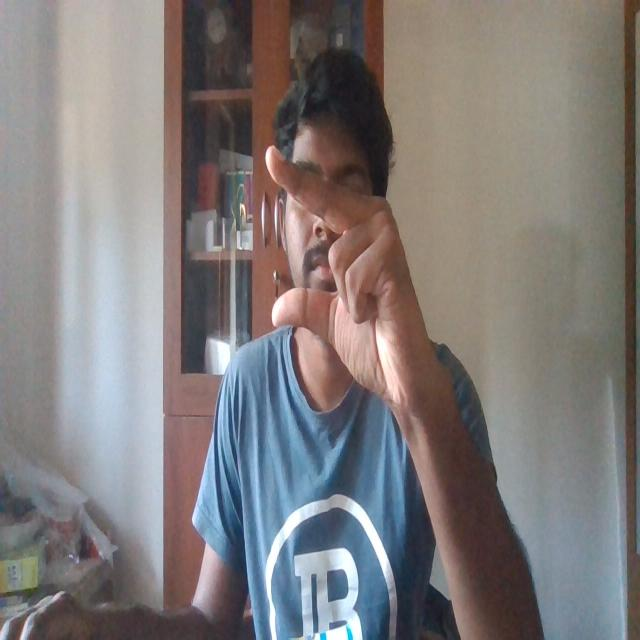No: (262, 137, 452, 408)
